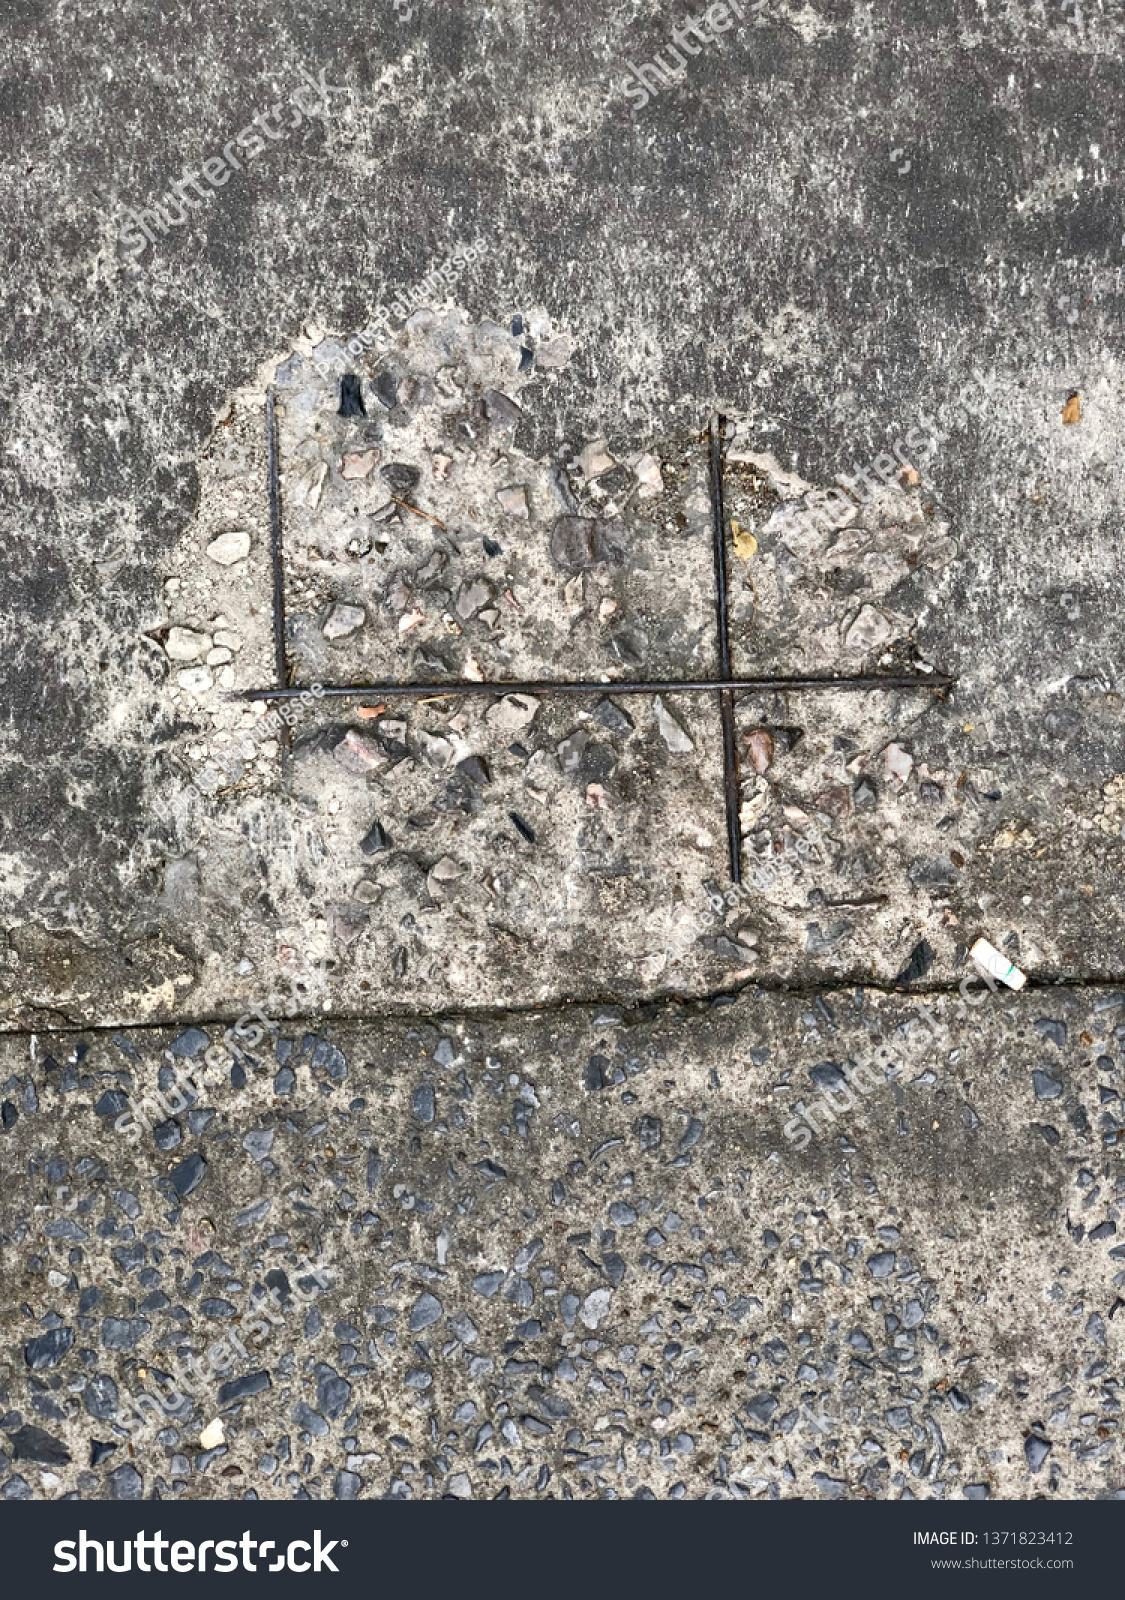Crack: (1, 975, 1125, 1037)
Exposed reinforcement: (241, 675, 955, 703), (710, 414, 741, 883), (265, 384, 293, 782)
